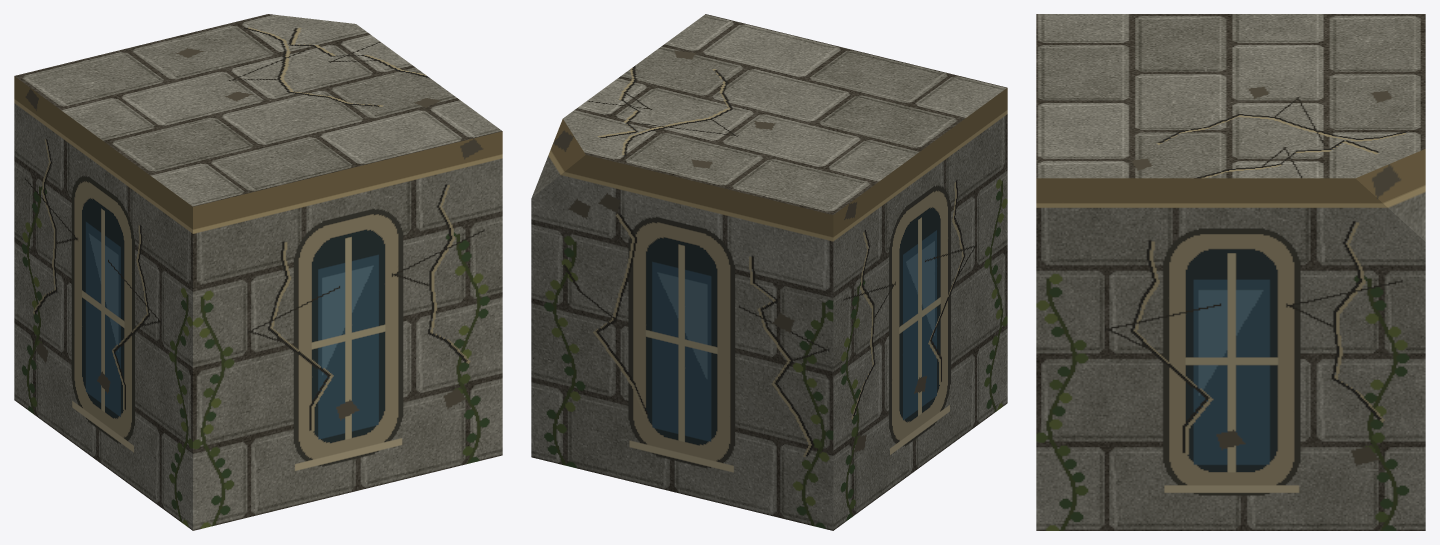
File: palace_z1.glb
The picture shows the model from 3 angles, left to right: view 1: azimuth 30°, elevation 25°; view 2: azimuth 150°, elevation 25°; view 3: azimuth 270°, elevation 25°; orthographic projection. The views are drawn at different scales.
Parts seen in each view (by area): view 1: palace_z1; view 2: palace_z1; view 3: palace_z1.
Part boxes in pixels (left/top/right/bottom): palace_z1: left=14, top=14, right=502, bottom=530; palace_z1: left=531, top=14, right=1007, bottom=530; palace_z1: left=1036, top=14, right=1425, bottom=530.
Size of the model in its own units: 1 by 1 by 1.
1 material, 1 textured.
